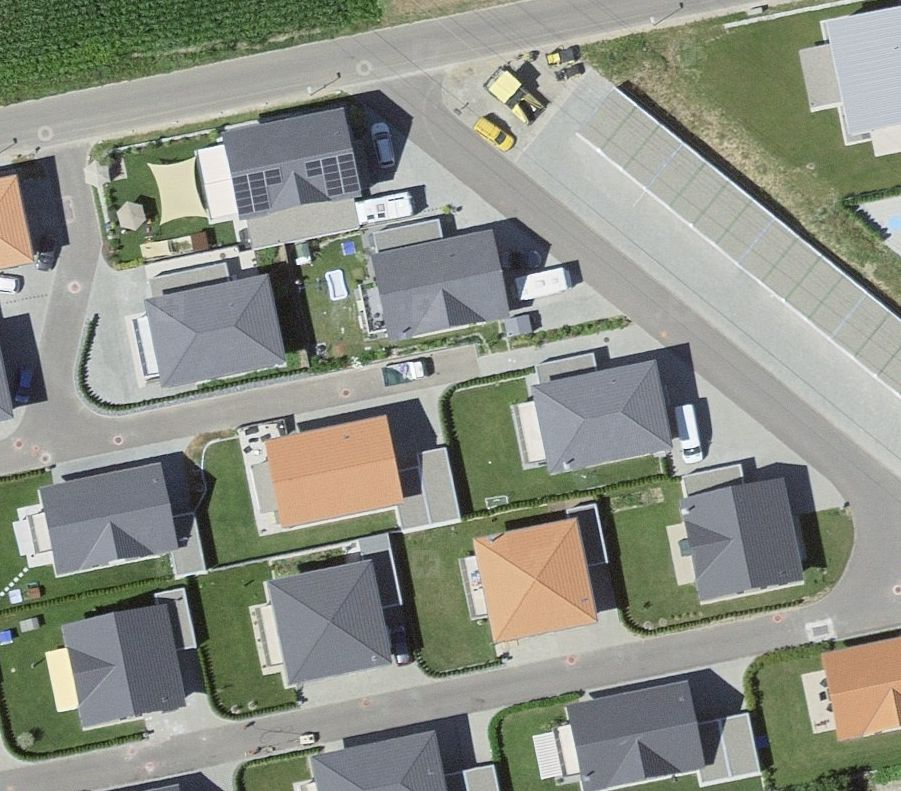solar: (229, 154, 361, 214)
